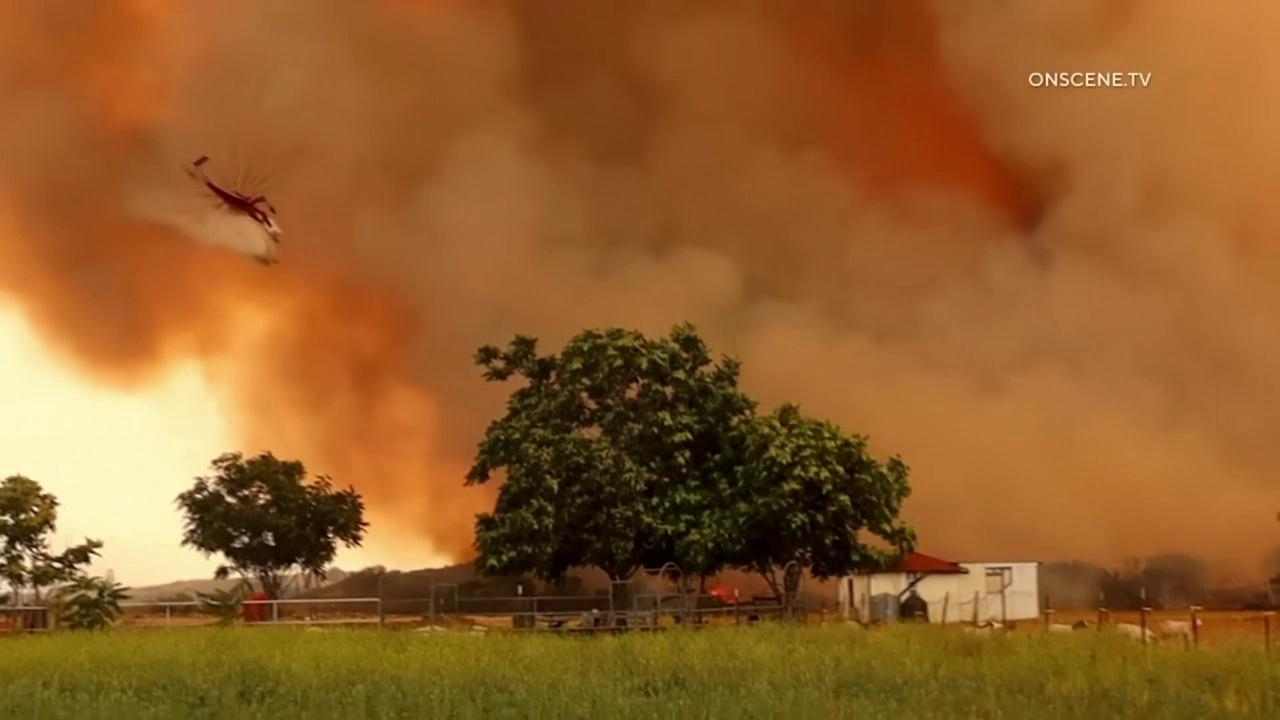fire: (710, 586, 731, 602)
smoke: (0, 0, 1280, 612)
